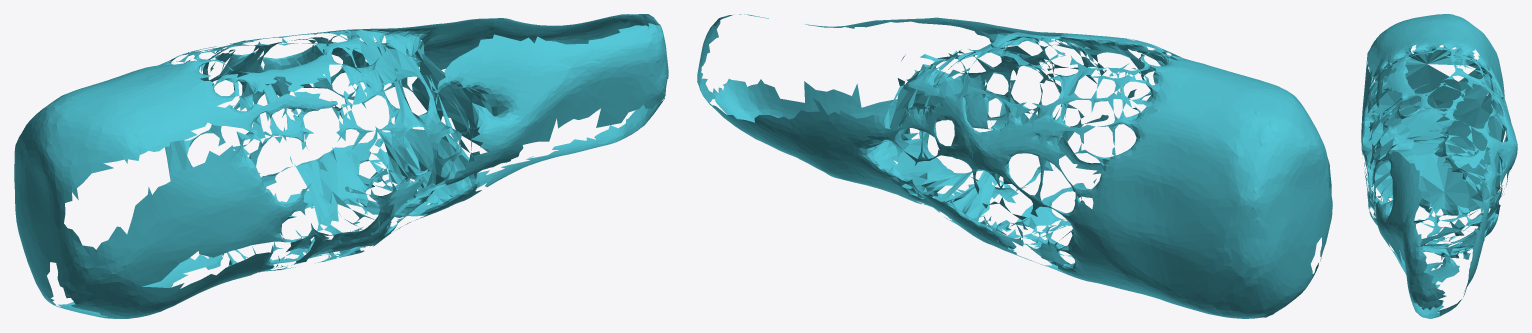
3 renders of one model, left to right at view 1: azimuth 30°, elevation 25°; view 2: azimuth 150°, elevation 25°; view 3: azimuth 270°, elevation 25°, orthographic. The views are drawn at different scales.
Visible parts, largest first — view 1: Renderer Node; view 2: Renderer Node; view 3: Renderer Node.
Boxes of the visible parts, x1,y1,x2,y2 form: Renderer Node: [14, 14, 668, 318]; Renderer Node: [697, 14, 1332, 318]; Renderer Node: [1361, 14, 1517, 318].
Size of the model in its own units: 0.8101 by 0.2835 by 0.2442.
Materials: 1 (1 with a texture image).
